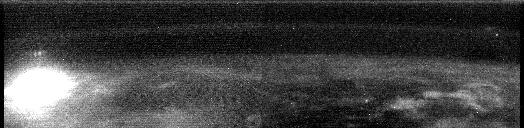positive: (30, 48, 46, 62)
